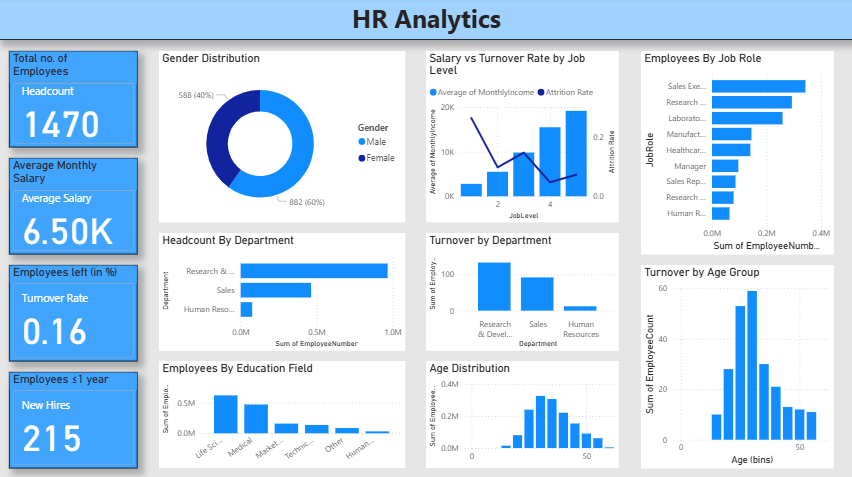

This screenshot's page, from the dashboard's own definition file:
{"tool":"powerbi","page":{"name":"Page 1","canvas":[1280,720],"ordinal":0},"visuals":[{"type":"textbox","box":[0,0,1280,64],"z":0},{"type":"cardVisual","title":"Total no. of Employees","fields":{"Data":["WA_Fn-UseC_-HR-Employee-Attrition.Headcount"]},"box":[16,80,192,144],"z":1000},{"type":"cardVisual","title":"Employees ≤1 year","fields":{"Data":["WA_Fn-UseC_-HR-Employee-Attrition.New Hires"]},"box":[16,560,192,144],"z":2000},{"type":"cardVisual","title":"Average Monthly Salary","fields":{"Data":["WA_Fn-UseC_-HR-Employee-Attrition.Average Salary"]},"box":[16,240,192,144],"z":3000},{"type":"cardVisual","title":"Employees left (in %)","fields":{"Data":["WA_Fn-UseC_-HR-Employee-Attrition.Turnover Rate"]},"box":[16,400,192,144],"z":4000},{"type":"donutChart","title":"Gender Distribution","fields":{"Category":["WA_Fn-UseC_-HR-Employee-Attrition.Gender"],"Y":["CountNonNull(WA_Fn-UseC_-HR-Employee-Attrition.Gender)"]},"box":[240,80,368,256],"z":5000},{"type":"clusteredBarChart","title":"Headcount By Department","fields":{"Category":["WA_Fn-UseC_-HR-Employee-Attrition.Department"],"Y":["Sum(WA_Fn-UseC_-HR-Employee-Attrition.EmployeeNumber)"]},"box":[240,352,368,176],"z":6000},{"type":"columnChart","title":"Employees By Education Field","fields":{"Category":["WA_Fn-UseC_-HR-Employee-Attrition.EducationField"],"Y":["Sum(WA_Fn-UseC_-HR-Employee-Attrition.EmployeeNumber)"]},"box":[240,544,368,160],"z":7000},{"type":"barChart","title":"Employees By Job Role","fields":{"Category":["WA_Fn-UseC_-HR-Employee-Attrition.JobRole"],"Y":["Sum(WA_Fn-UseC_-HR-Employee-Attrition.EmployeeNumber)"]},"box":[960,80,288,304],"z":8000},{"type":"clusteredColumnChart","title":"Turnover by Department","fields":{"Category":["WA_Fn-UseC_-HR-Employee-Attrition.Department"],"Y":["Sum(WA_Fn-UseC_-HR-Employee-Attrition.EmployeeCount)"]},"box":[640,352,288,176],"z":9000},{"type":"clusteredColumnChart","title":"Turnover by Age Group","fields":{"Category":["WA_Fn-UseC_-HR-Employee-Attrition.Age (bins)"],"Y":["Sum(WA_Fn-UseC_-HR-Employee-Attrition.EmployeeCount)"]},"box":[960,400,288,304],"z":10000},{"type":"lineClusteredColumnComboChart","title":"Salary vs Turnover Rate by Job Level","fields":{"Y":["Avg(WA_Fn-UseC_-HR-Employee-Attrition.MonthlyIncome)"],"Category":["WA_Fn-UseC_-HR-Employee-Attrition.JobLevel"],"Y2":["WA_Fn-UseC_-HR-Employee-Attrition.Attrition Rate"]},"box":[640,80,288,256],"z":11000},{"type":"clusteredColumnChart","title":"Age Distribution","fields":{"Y":["Sum(WA_Fn-UseC_-HR-Employee-Attrition.EmployeeNumber)"],"Category":["WA_Fn-UseC_-HR-Employee-Attrition.Age (bins)"]},"box":[640,544,288,160],"z":12000}]}

Visuals, with their boxes in screenshot pixels (x1, y1, x2, y2), scaled from the page's 1280x720 canvas onto the 852x477 screenshot:
textbox: rect(0, 0, 851, 42)
"Total no. of Employees" cardVisual: rect(11, 53, 138, 148)
"Employees ≤1 year" cardVisual: rect(11, 371, 138, 466)
"Average Monthly Salary" cardVisual: rect(11, 159, 138, 254)
"Employees left (in %)" cardVisual: rect(11, 265, 138, 360)
"Gender Distribution" donutChart: rect(160, 53, 405, 223)
"Headcount By Department" clusteredBarChart: rect(160, 233, 405, 350)
"Employees By Education Field" columnChart: rect(160, 360, 405, 466)
"Employees By Job Role" barChart: rect(639, 53, 831, 254)
"Turnover by Department" clusteredColumnChart: rect(426, 233, 618, 350)
"Turnover by Age Group" clusteredColumnChart: rect(639, 265, 831, 466)
"Salary vs Turnover Rate by Job Level" lineClusteredColumnComboChart: rect(426, 53, 618, 223)
"Age Distribution" clusteredColumnChart: rect(426, 360, 618, 466)
